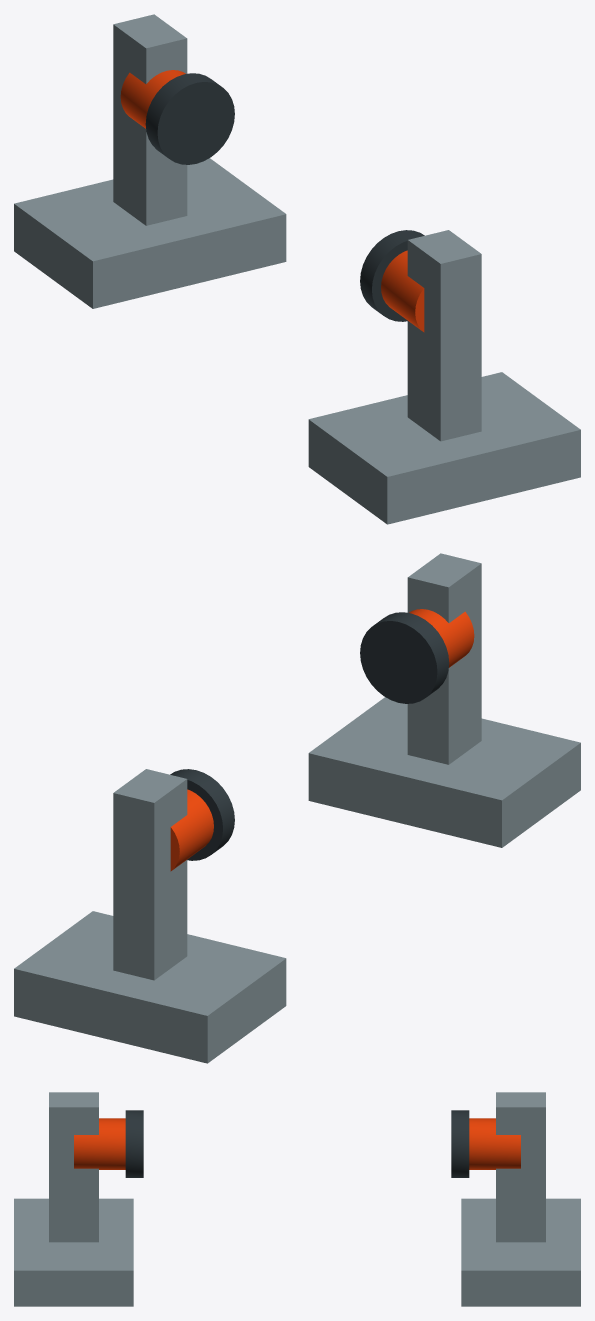
Rendered from wipe_head.dae.
3 views of the same model, one above another, from view 1: azimuth 30°, elevation 25°; view 2: azimuth 150°, elevation 25°; view 3: azimuth 270°, elevation 25° (orthographic). The views are drawn at different scales.
Parts seen in each view (by area): view 1: wipe_head; view 2: wipe_head; view 3: wipe_head.
Boxes of the visible parts, <box> form: wipe_head: <box>14,14,580,524</box>; wipe_head: <box>14,553,580,1063</box>; wipe_head: <box>14,1092,580,1306</box>.
Bounding box in the file's own units: 0.85 × 2.84 × 0.945.
